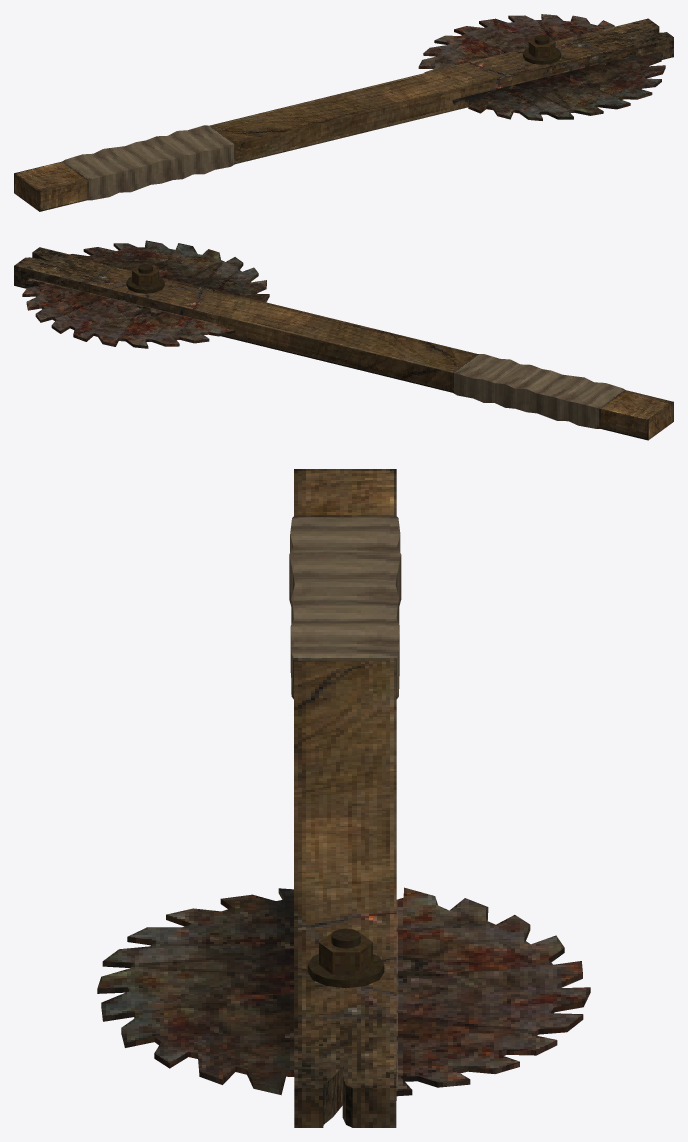
The model's file is makeshift_melee_mx_1.glb.
The picture shows the model from 3 angles, top to bottom: view 1: azimuth 30°, elevation 25°; view 2: azimuth 150°, elevation 25°; view 3: azimuth 270°, elevation 25°; orthographic projection. The views are drawn at different scales.
Parts seen in each view (by area): view 1: makeshift_melee_mx_1; view 2: makeshift_melee_mx_1; view 3: makeshift_melee_mx_1.
Part boxes in pixels (x1=…): makeshift_melee_mx_1: x1=14, y1=14, x2=673, y2=211; makeshift_melee_mx_1: x1=14, y1=240, x2=673, y2=440; makeshift_melee_mx_1: x1=97, y1=469, x2=590, y2=1127.
Bounding box in the file's own units: 1 × 0.0804 × 0.3367.
1 material, 1 textured.
